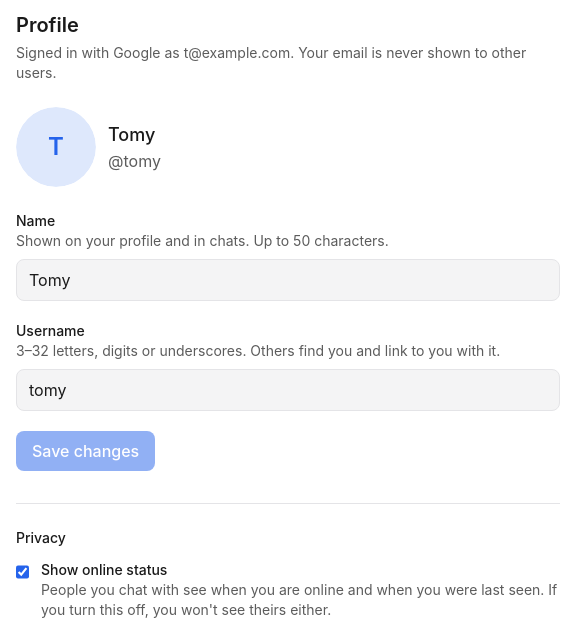
ProfileSettings › saves a new display name without resending the username
This screenshot has width=577, height=635.
Expected: the button "Save changes" is disabled, [16,431,155,471]
Replace the text in the field labelled "Name" with "Rahmat Tomy" at (288, 280), box [16,259,560,301]
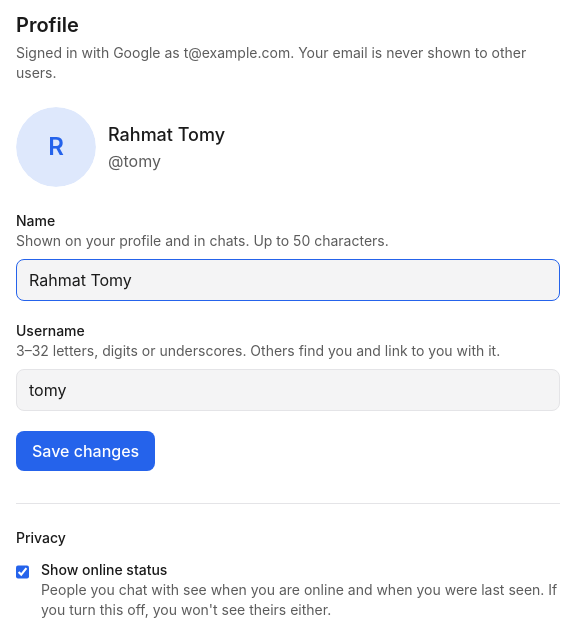
Click the button "Save changes" at (86, 451), box [16,431,155,471]
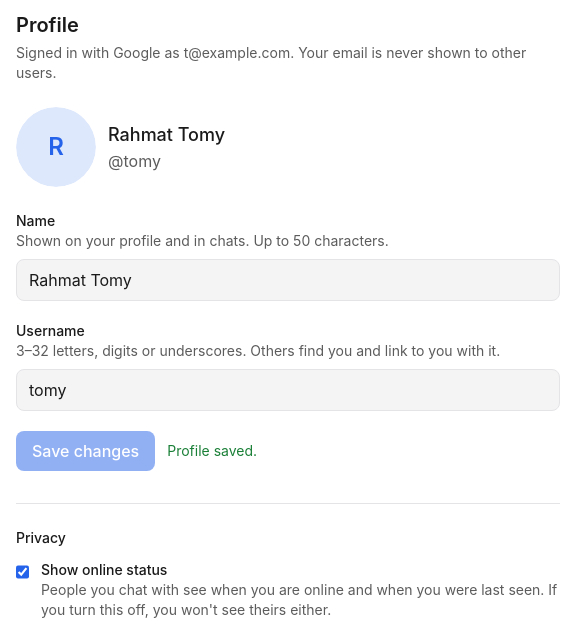
Expected: the text "Rahmat Tomy" is shown, [108,121,225,149]
Expected: the text "Profile saved." is shown, [167,442,257,459]
